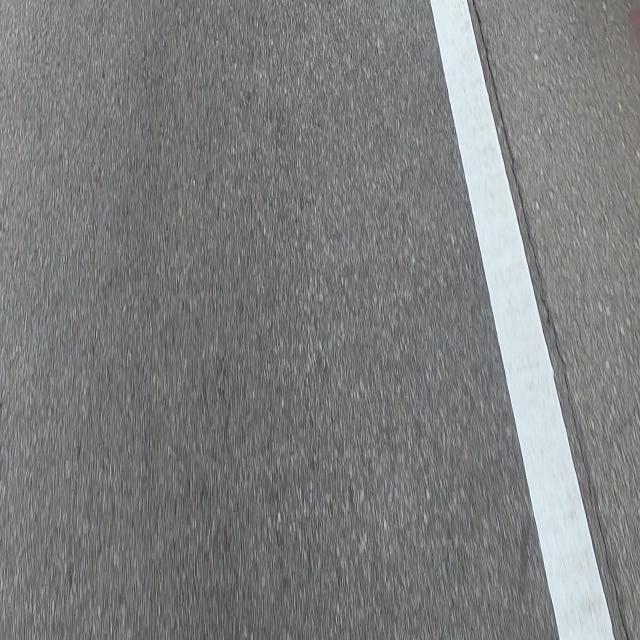Retak-Memanjang: (469, 0, 633, 640)
